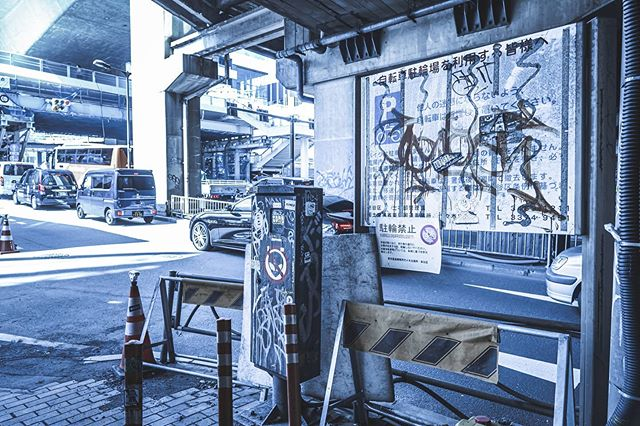car: (192, 194, 371, 275), (71, 168, 159, 225), (15, 163, 77, 213)
collumn: (121, 1, 217, 203)
graffiti: (366, 47, 585, 226), (252, 180, 323, 380)
sign: (367, 213, 453, 275)
traffic cone: (102, 268, 165, 370), (1, 218, 25, 263)
